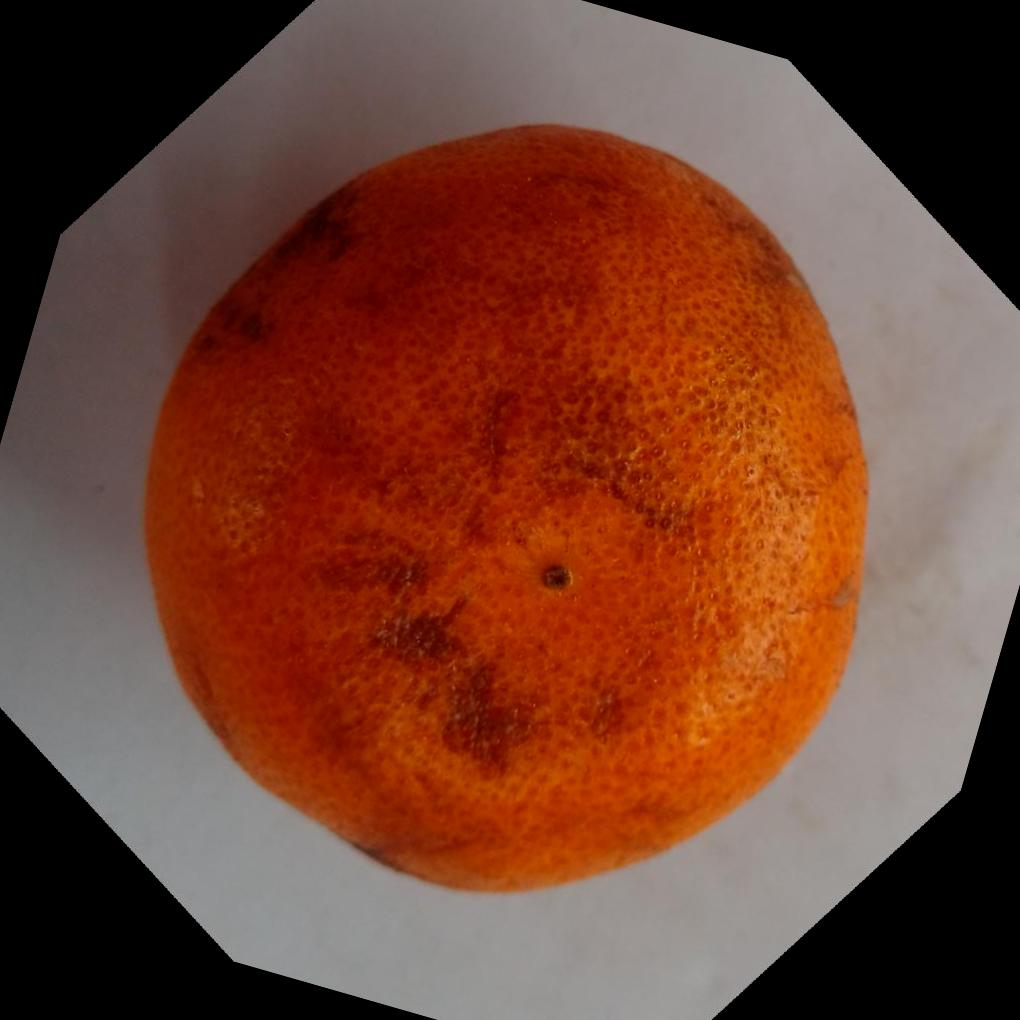FreshOrange: (136, 119, 866, 894)
